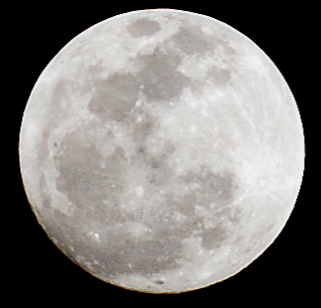crater: (218, 136, 283, 211), (117, 171, 150, 206), (119, 16, 166, 40), (128, 108, 147, 127), (148, 274, 172, 289), (88, 227, 106, 245), (164, 91, 180, 109), (51, 133, 66, 151)
